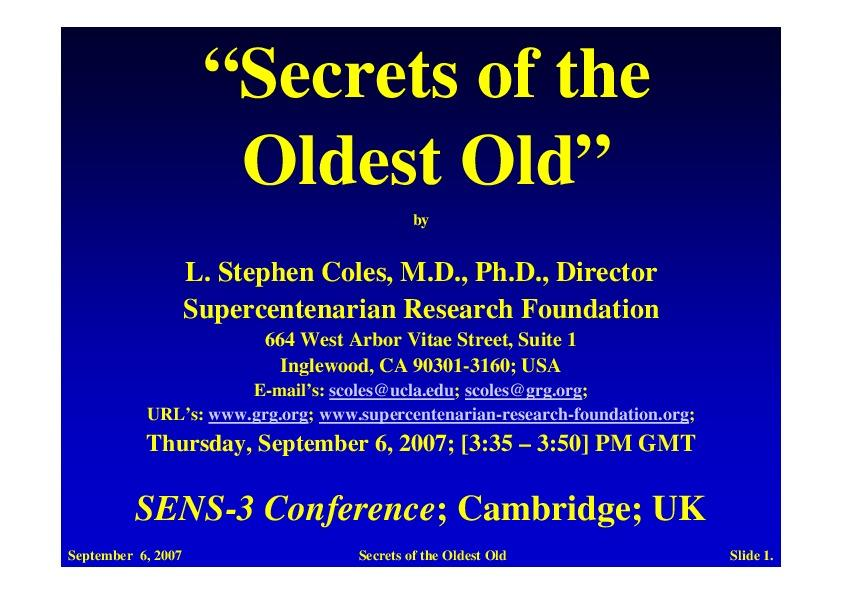title: (202, 37, 651, 210)
